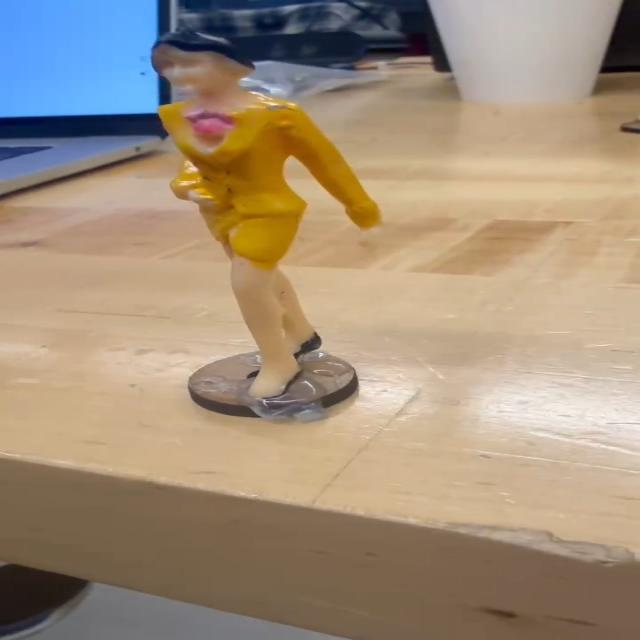Authorized: (127, 19, 389, 428)
